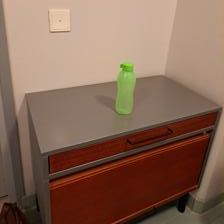bottle: (114, 59, 136, 116)
